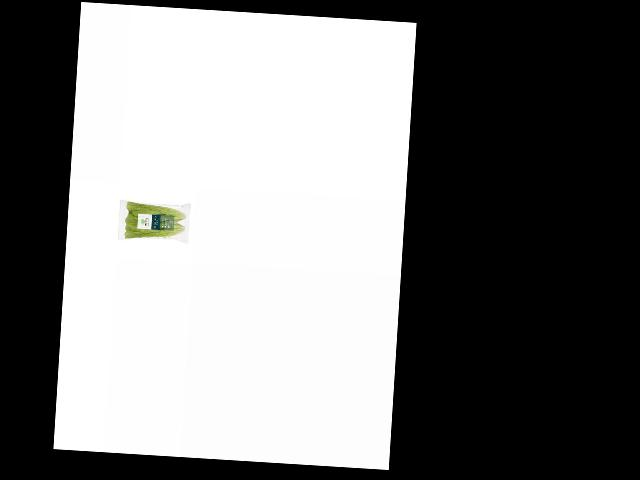lettuce: (122, 196, 187, 242)
